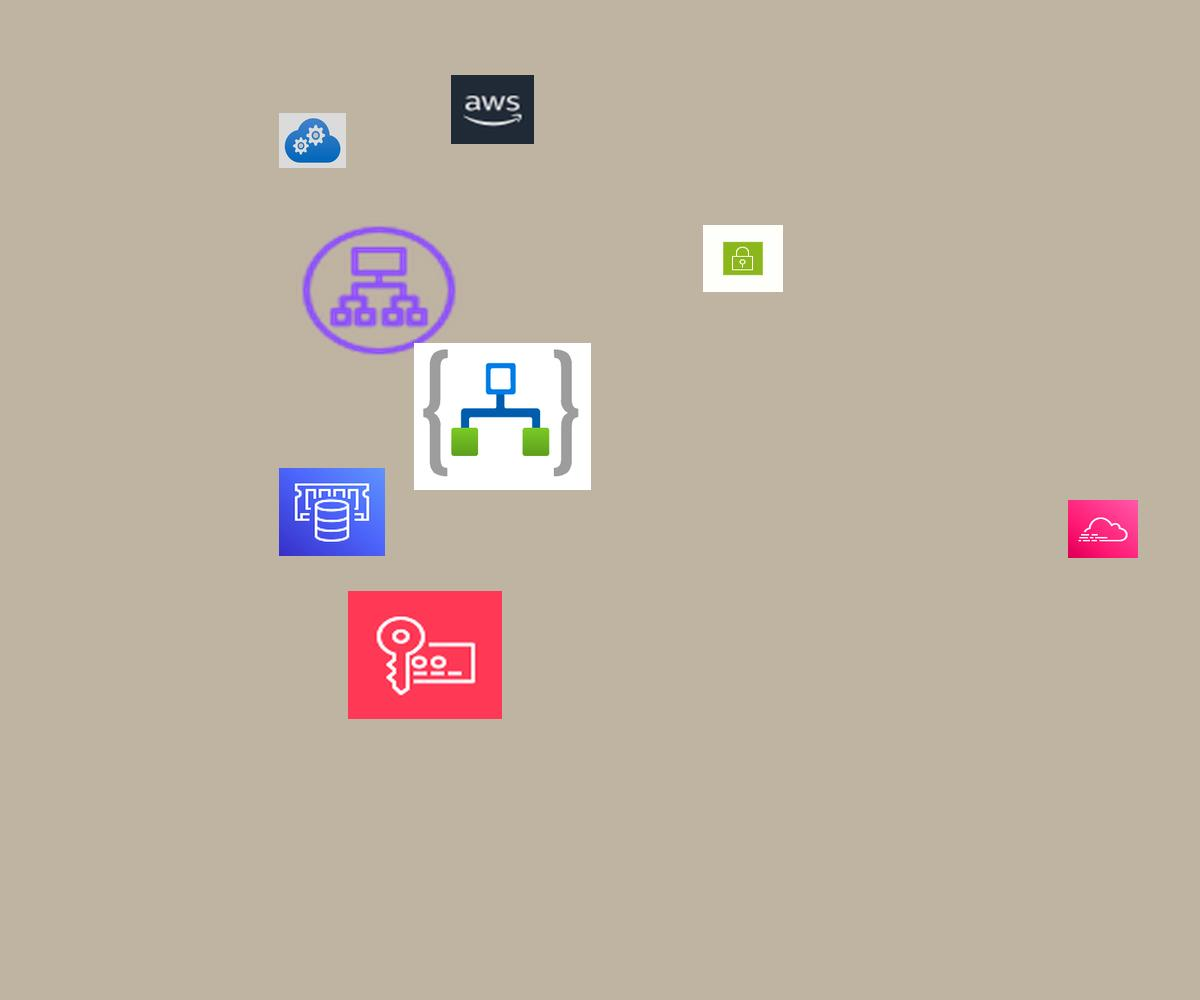AWS-Cloud-logo: (451, 75, 534, 144)
AWS-CloudTrail: (1068, 500, 1138, 558)
AWS-ElastiCache: (279, 468, 385, 556)
AWS-Key-Management-Service: (348, 591, 502, 719)
AWS-Public-subnet: (703, 225, 783, 292)
AWS-Res_Elastic-Load-Balancing_Application-Load-Balancer: (296, 221, 462, 360)
Azure_cloud_services: (279, 113, 346, 168)
Azure_integration-204-Logic-Apps: (414, 343, 591, 490)
